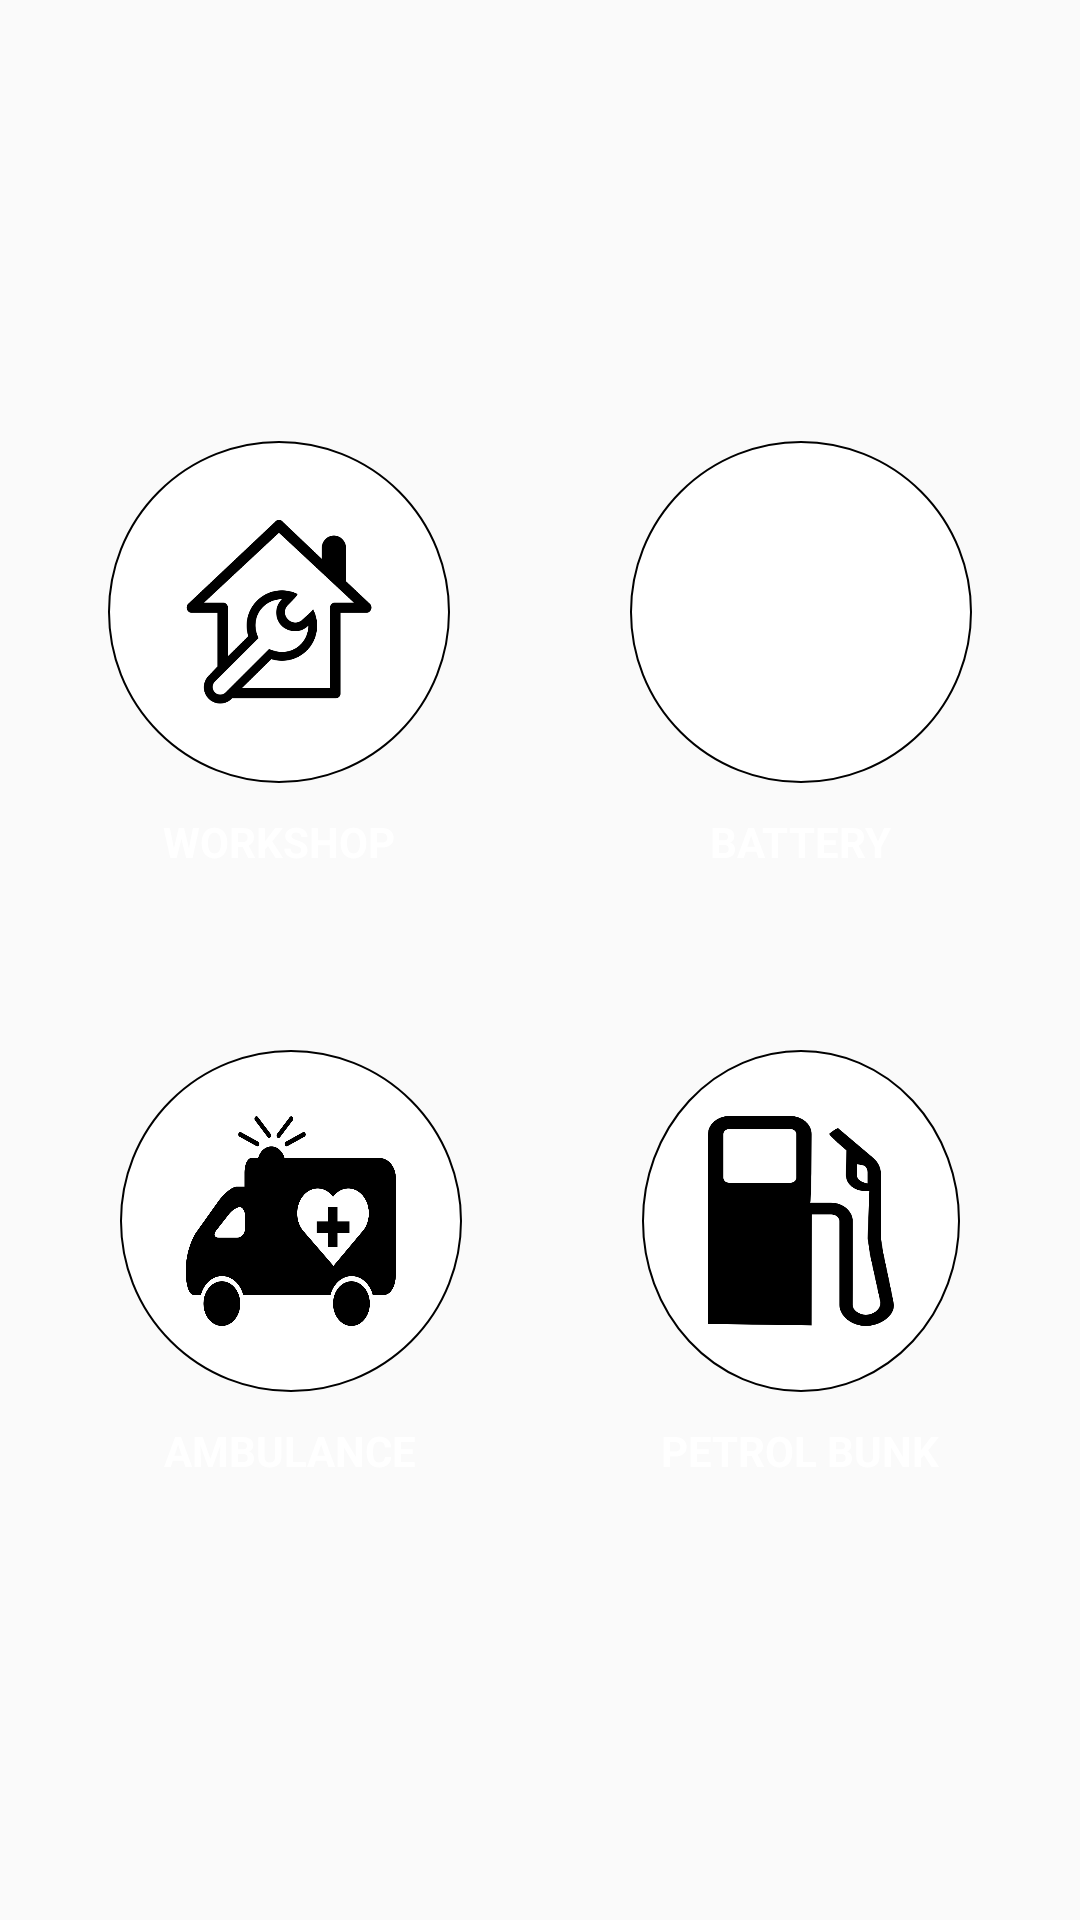

Named icons in this screenshot (1080w x 1920h) and their bounding boxes, bbox=(x1, y1, x2, y2):
petrolpump: bbox=(708, 1116, 894, 1326)
